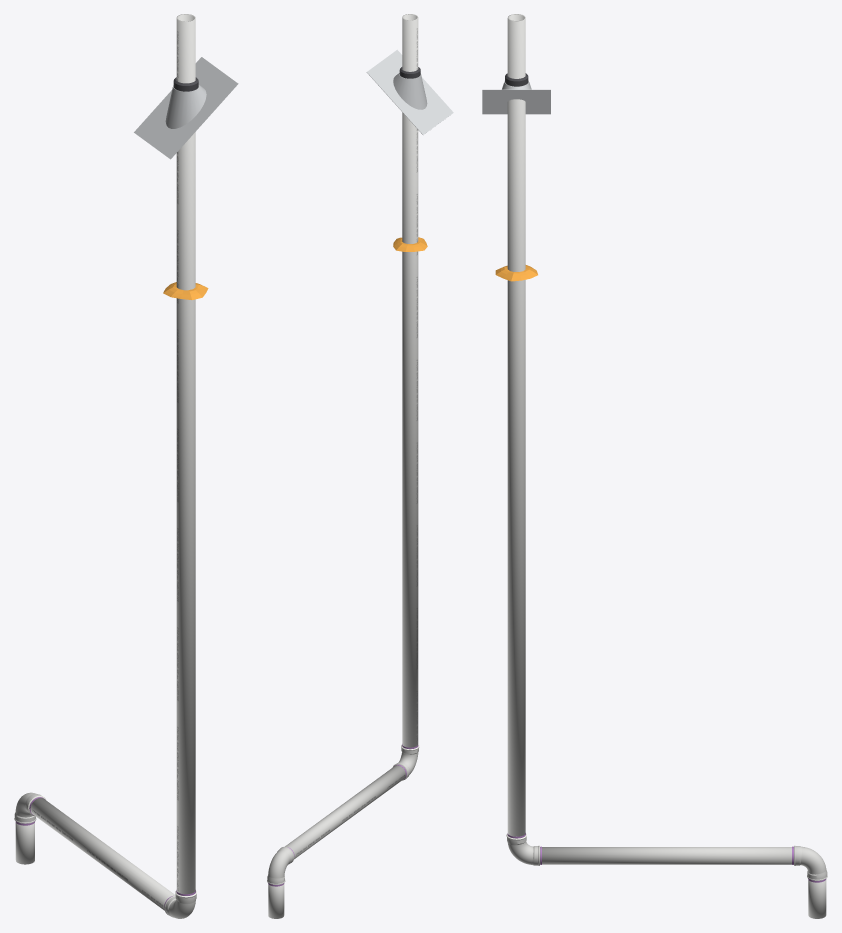
The model's file is slab_pipes_dwv__kitchen_vent-roof.glb.
3 views of the same model, side by side, from view 1: azimuth 30°, elevation 25°; view 2: azimuth 150°, elevation 25°; view 3: azimuth 270°, elevation 25° (orthographic). The views are drawn at different scales.
Parts seen in each view (by area): view 1: vent_dwv_kitchen, vent_dwv_kitchen_flashing, vent_dwv_kitchen_boot, firestop_vent_dwv_kitchen; view 2: vent_dwv_kitchen, vent_dwv_kitchen_flashing, vent_dwv_kitchen_boot; view 3: vent_dwv_kitchen, vent_dwv_kitchen_flashing.
Boxes of the visible parts, x1,y1,x2,y2 form: vent_dwv_kitchen: (14, 14, 196, 918); vent_dwv_kitchen_flashing: (134, 57, 238, 159); vent_dwv_kitchen_boot: (165, 77, 206, 128); firestop_vent_dwv_kitchen: (163, 282, 208, 299); vent_dwv_kitchen: (267, 14, 419, 918); vent_dwv_kitchen_flashing: (366, 49, 453, 134); vent_dwv_kitchen_boot: (393, 67, 427, 109); vent_dwv_kitchen: (506, 14, 827, 918); vent_dwv_kitchen_flashing: (482, 89, 550, 114).
Size of the model in its own units: 0.2448 by 3.3 by 1.15.
